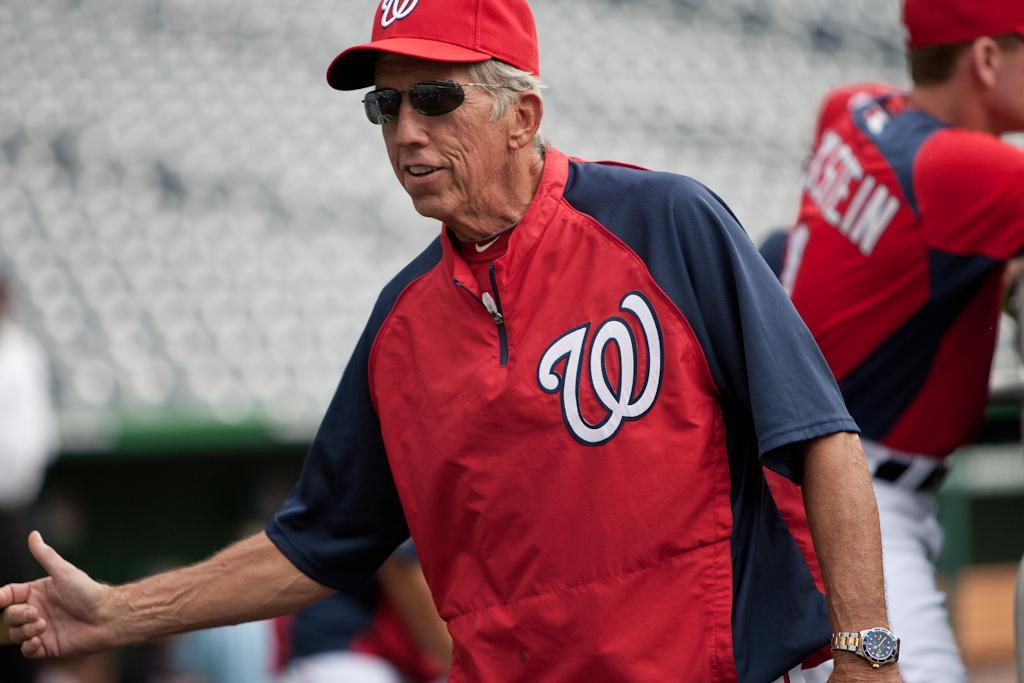Hat: (324, 0, 540, 91), (900, 0, 1022, 49)
